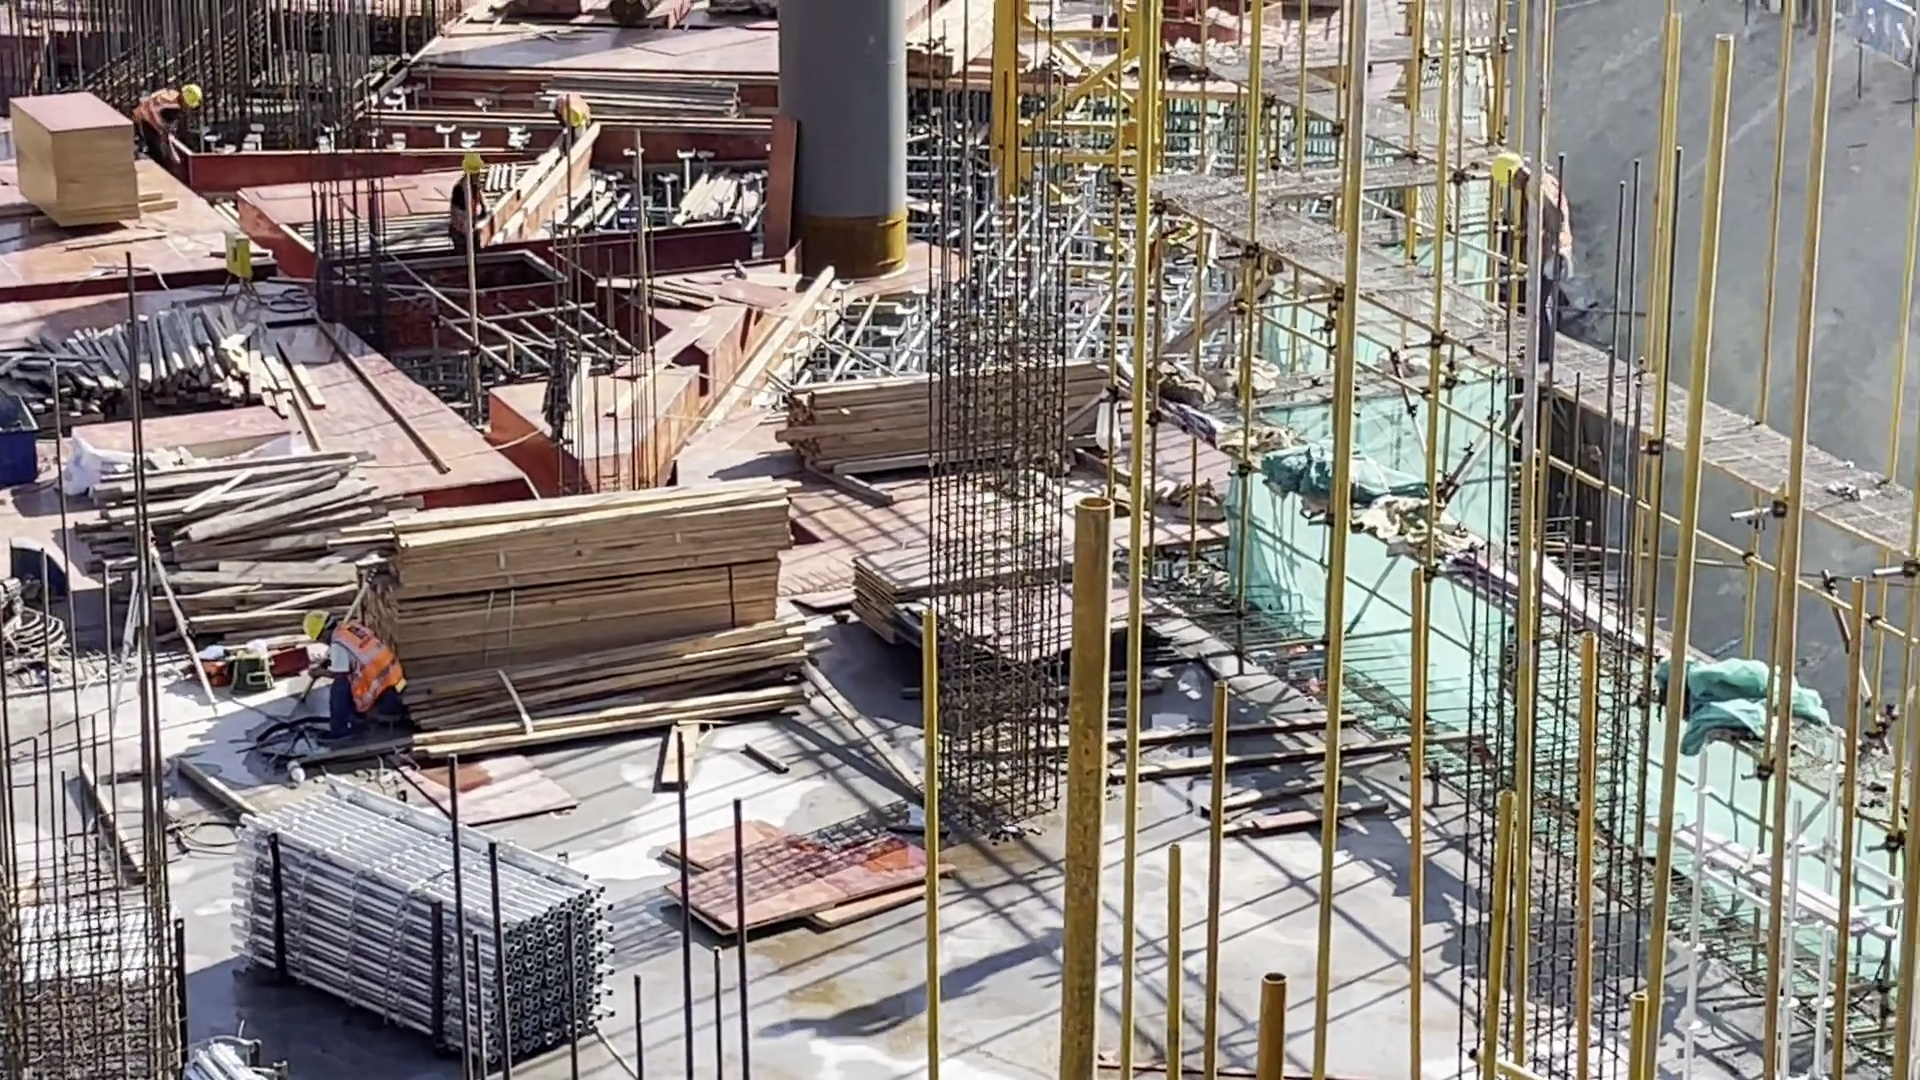board: (852, 531, 1158, 672), (7, 86, 140, 234)
helmet: (1493, 155, 1519, 186), (304, 613, 331, 639), (458, 150, 484, 173), (180, 86, 202, 108), (561, 106, 580, 127)
person: (1495, 152, 1574, 371), (304, 608, 410, 739), (136, 86, 207, 161), (449, 150, 496, 256), (547, 90, 600, 142)
scaffold: (236, 774, 621, 1060)
vest: (329, 620, 400, 708), (1528, 176, 1567, 272), (143, 89, 176, 127)
wood: (322, 473, 815, 762), (100, 450, 384, 624), (778, 356, 1115, 482), (54, 305, 322, 411)
